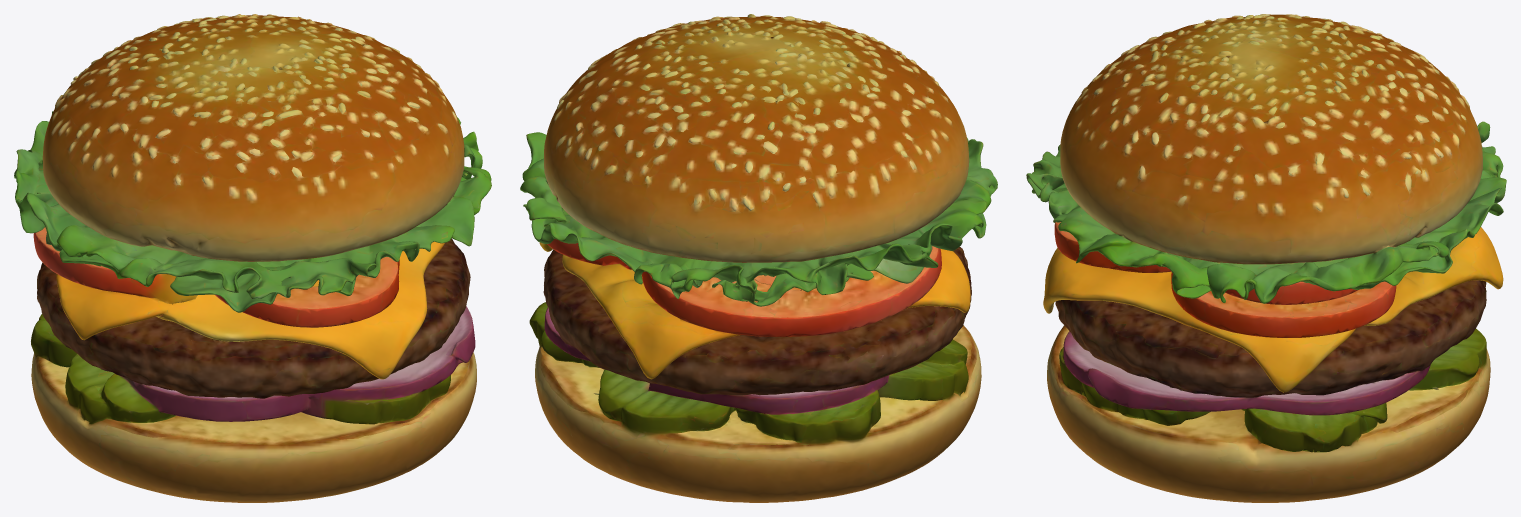
File: burger-test.glb
3 views of the same model, side by side, from view 1: azimuth 30°, elevation 25°; view 2: azimuth 150°, elevation 25°; view 3: azimuth 270°, elevation 25° (orthographic).
Visible parts, largest first — view 1: world; view 2: world; view 3: world.
Boxes of the visible parts, x1=… form: world: x1=14, y1=14, x2=491, y2=502; world: x1=520, y1=14, x2=997, y2=502; world: x1=1026, y1=14, x2=1506, y2=502.
Bounding box in the file's own units: 0.988 × 0.8322 × 0.9646.
1 material, 1 textured.
